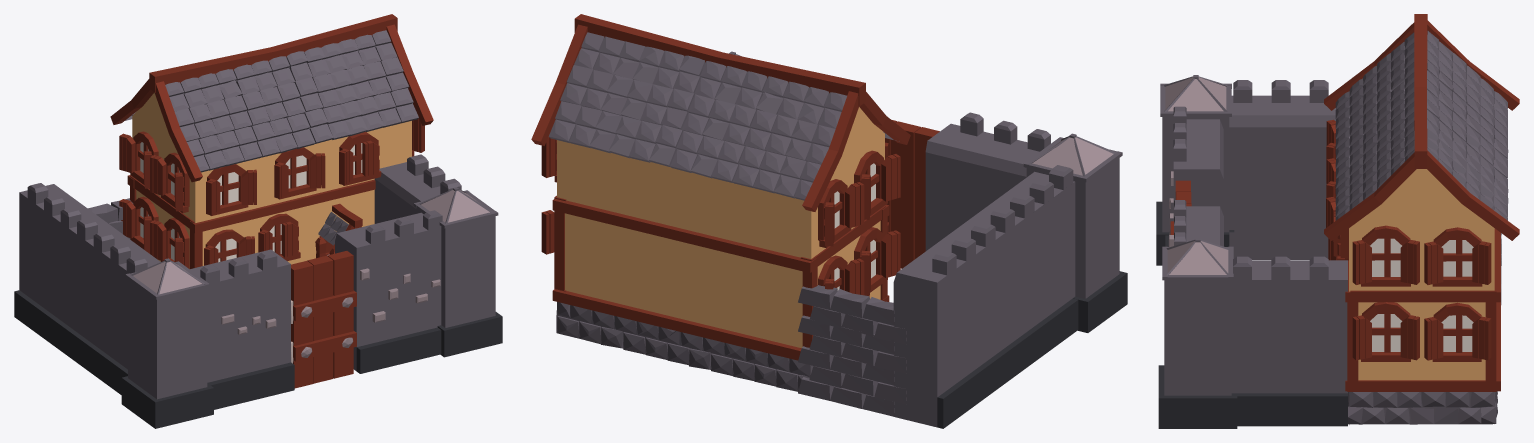
File: Barrack.fbx
3 views of the same model, side by side, from view 1: azimuth 30°, elevation 25°; view 2: azimuth 150°, elevation 25°; view 3: azimuth 270°, elevation 25° (orthographic). The views are drawn at different scales.
Visible parts, largest first — view 1: Домик с забором; view 2: Домик с забором; view 3: Домик с забором.
Part boxes in pixels (bbox=[...]): Домик с забором: bbox=[14, 14, 502, 428]; Домик с забором: bbox=[531, 14, 1127, 428]; Домик с забором: bbox=[1156, 14, 1519, 428].
Size of the model in its own units: 653 by 429 by 499.
